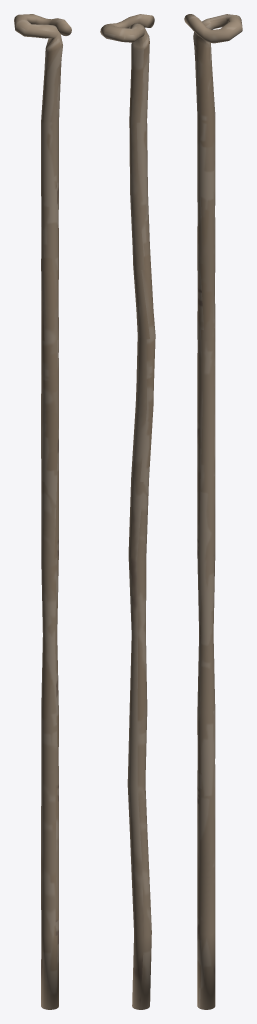
Rendered from LP_RopeHanging.glb.
3 views of the same model, side by side, from view 1: azimuth 90°, elevation 25°; view 2: azimuth 150°, elevation 25°; view 3: azimuth 270°, elevation 25° (orthographic).
Visible parts, largest first — view 1: LP_RopeHanging; view 2: LP_RopeHanging; view 3: LP_RopeHanging.
Boxes of the visible parts, <box> form: LP_RopeHanging: <box>14,14,71,1009</box>; LP_RopeHanging: <box>100,14,155,1009</box>; LP_RopeHanging: <box>184,14,242,1009</box>.
Bounding box in the file's own units: 0.2319 × 5.14 × 0.2738.
Materials: 1 (1 with a texture image).
